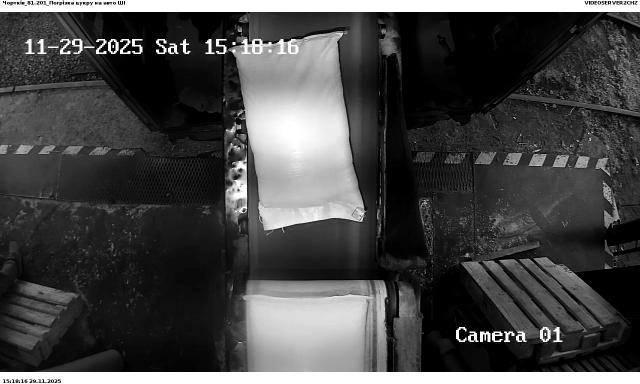bag: (229, 32, 366, 230), (244, 295, 372, 372)
